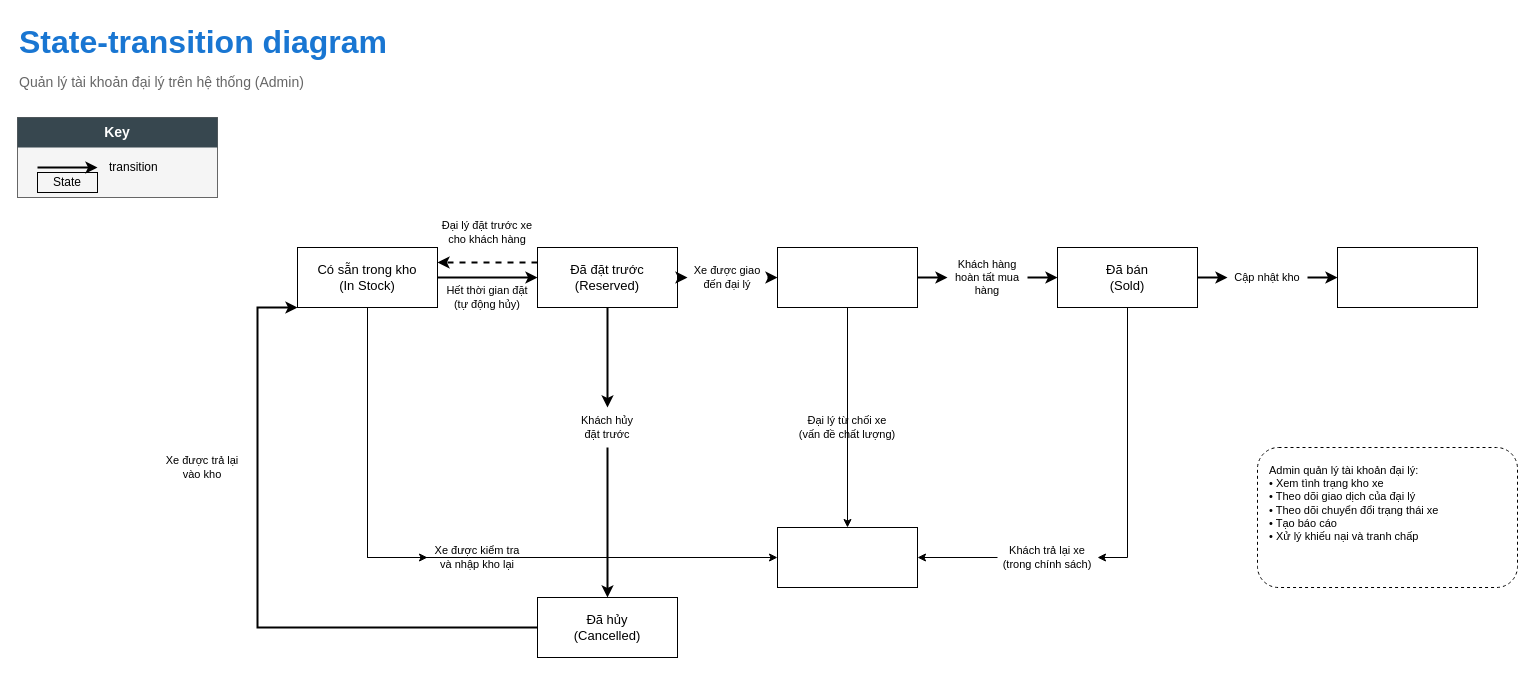
Image size: 1535x675. Some labels were removed from this diagram. Each missing label, with the box of its shape:
Hết hàng (Out of Stock): (1336, 246, 1478, 308)
Đã giao hàng (Delivered): (776, 246, 918, 308)
Đã trả lại (Returned): (776, 526, 918, 588)
